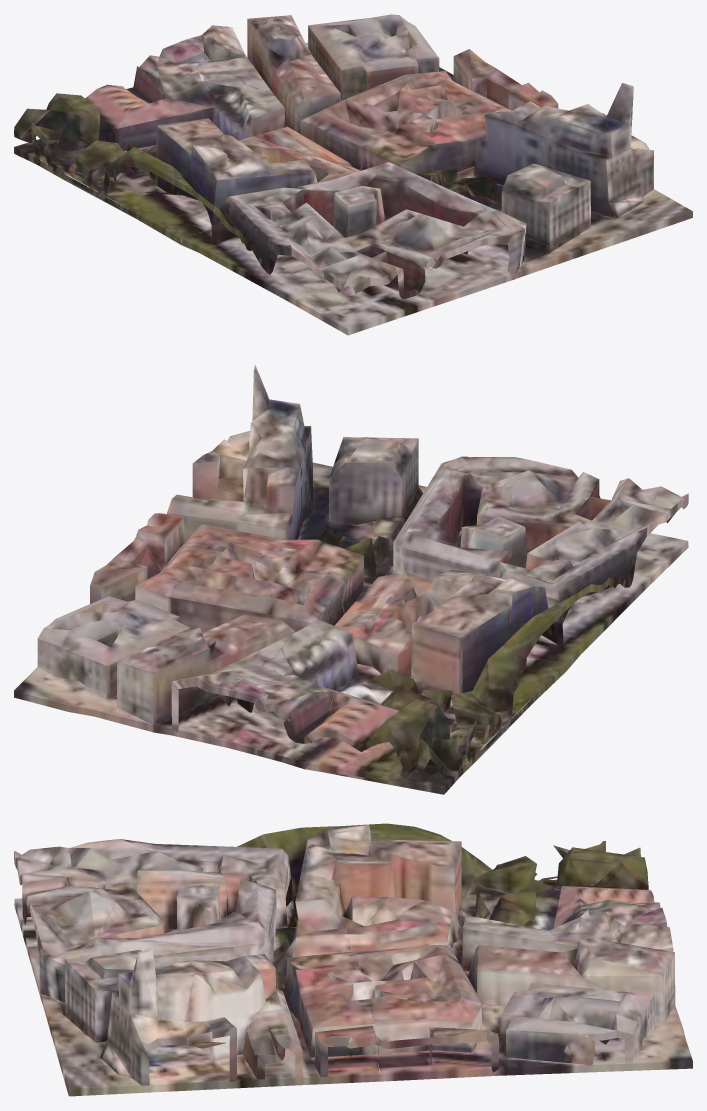
3 renders of one model, top to bottom at view 1: azimuth 30°, elevation 25°; view 2: azimuth 150°, elevation 25°; view 3: azimuth 270°, elevation 25°, orthographic. The views are drawn at different scales.
Parts seen in each view (by area): view 1: Mesh_0; view 2: Mesh_0; view 3: Mesh_0.
Part boxes in pixels (x1=…): Mesh_0: x1=14, y1=14, x2=692, y2=335; Mesh_0: x1=14, y1=364, x2=688, y2=794; Mesh_0: x1=14, y1=823, x2=692, y2=1096.
Size of the model in its own units: 266 by 80.57 by 330.
1 material, 1 textured.
